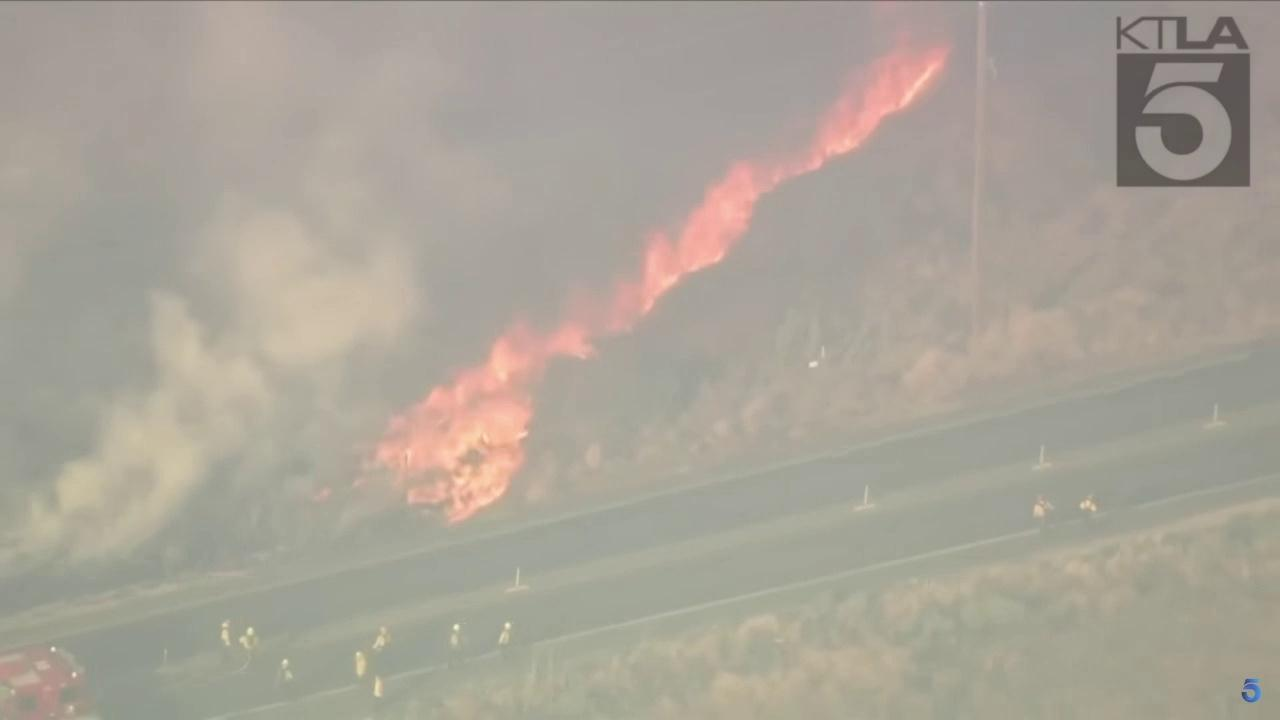fire: (355, 31, 951, 528), (317, 487, 332, 501)
smoke: (0, 0, 978, 609)
